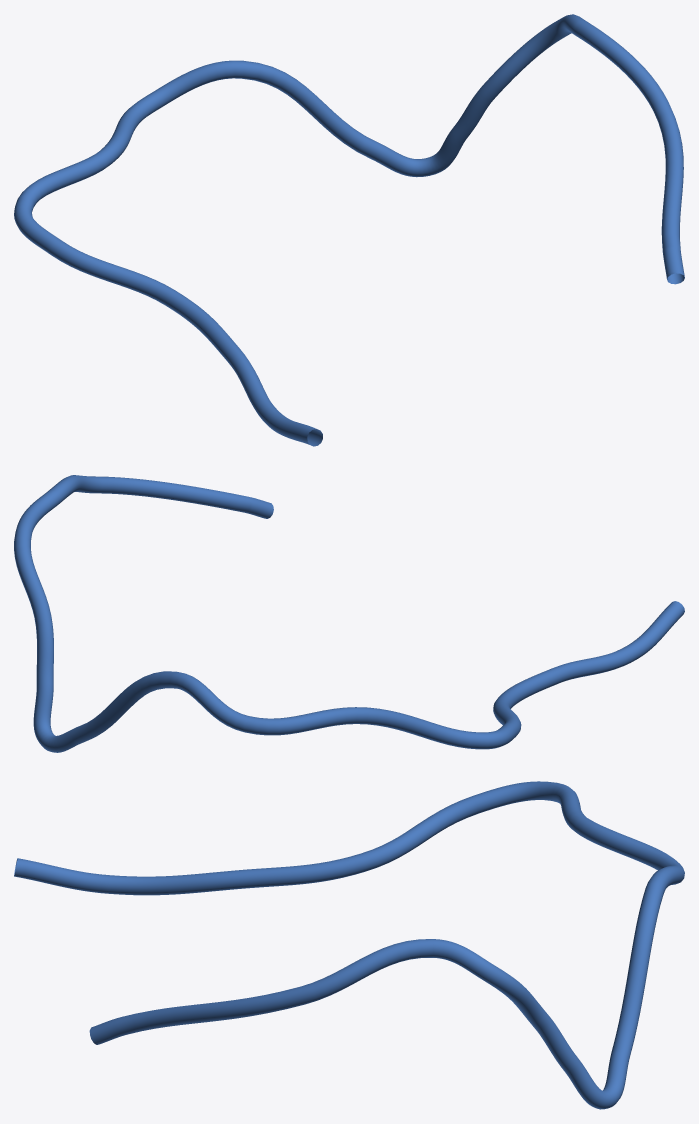
The picture shows the model from 3 angles, top to bottom: view 1: azimuth 30°, elevation 25°; view 2: azimuth 150°, elevation 25°; view 3: azimuth 270°, elevation 25°; orthographic projection. The views are drawn at different scales.
Parts seen in each view (by area): view 1: 左侧掌深静脉弓; view 2: 左侧掌深静脉弓; view 3: 左侧掌深静脉弓.
Boxes of the visible parts, x1,y1,x2,y2 form: 左侧掌深静脉弓: (14, 14, 684, 446); 左侧掌深静脉弓: (14, 475, 684, 752); 左侧掌深静脉弓: (14, 781, 684, 1109).
Size of the model in its own units: 0.0718 by 0.0247 by 0.0725.
